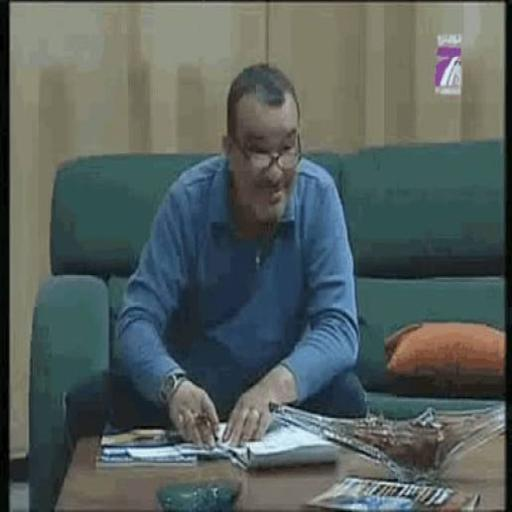slimane: (222, 64, 300, 230)
